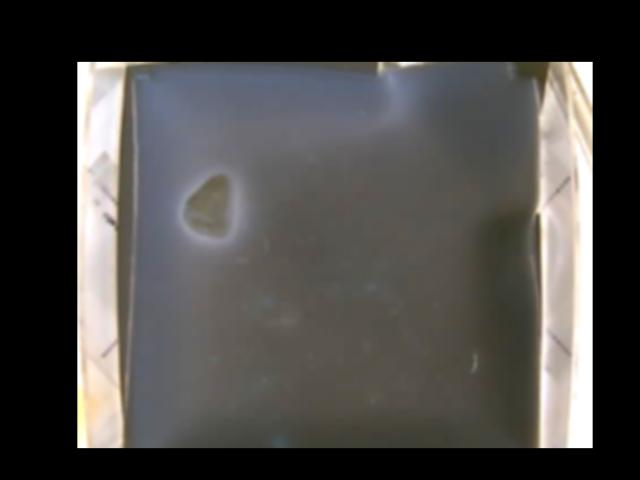Pebble: (178, 174, 235, 240)
